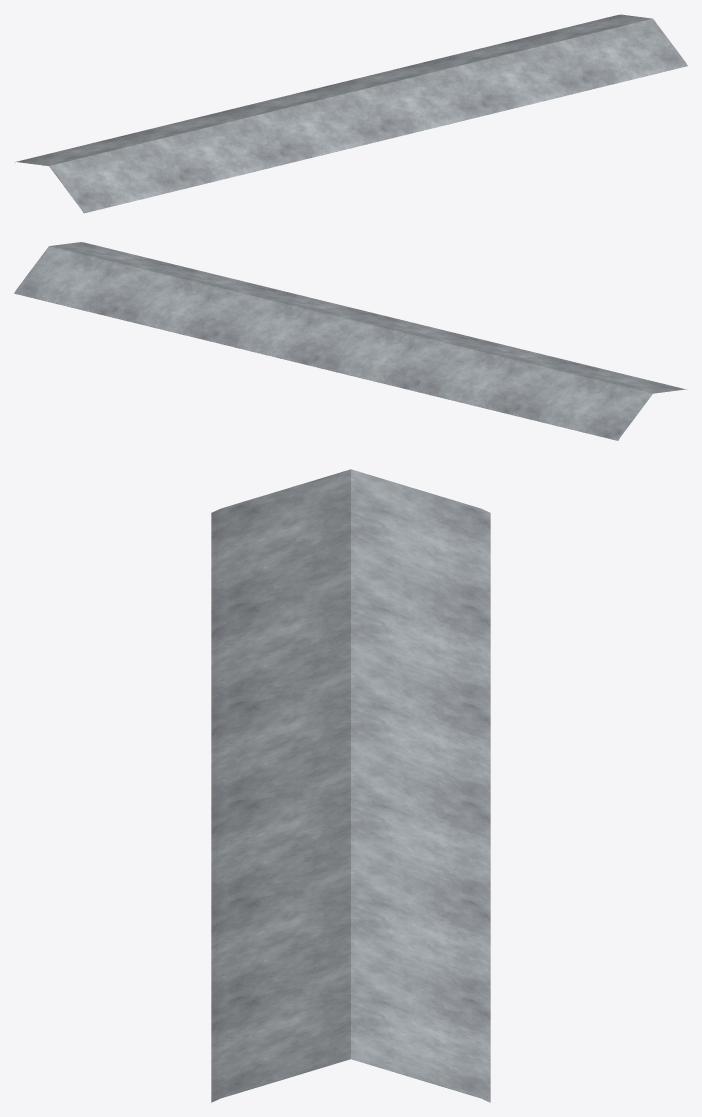
File: COB-CUM-003.glb
3 views of the same model, one above another, from view 1: azimuth 30°, elevation 25°; view 2: azimuth 150°, elevation 25°; view 3: azimuth 270°, elevation 25° (orthographic). The views are drawn at different scales.
Parts seen in each view (by area): view 1: COB-CUM-003_peca; view 2: COB-CUM-003_peca; view 3: COB-CUM-003_peca.
Part boxes in pixels (x1,y1,x2,y2): COB-CUM-003_peca: (15,14,687,213); COB-CUM-003_peca: (14,242,687,440); COB-CUM-003_peca: (211,469,490,1102).
Bounding box in the file's own units: 3 × 0.1038 × 0.6001.
1 material, 1 textured.
